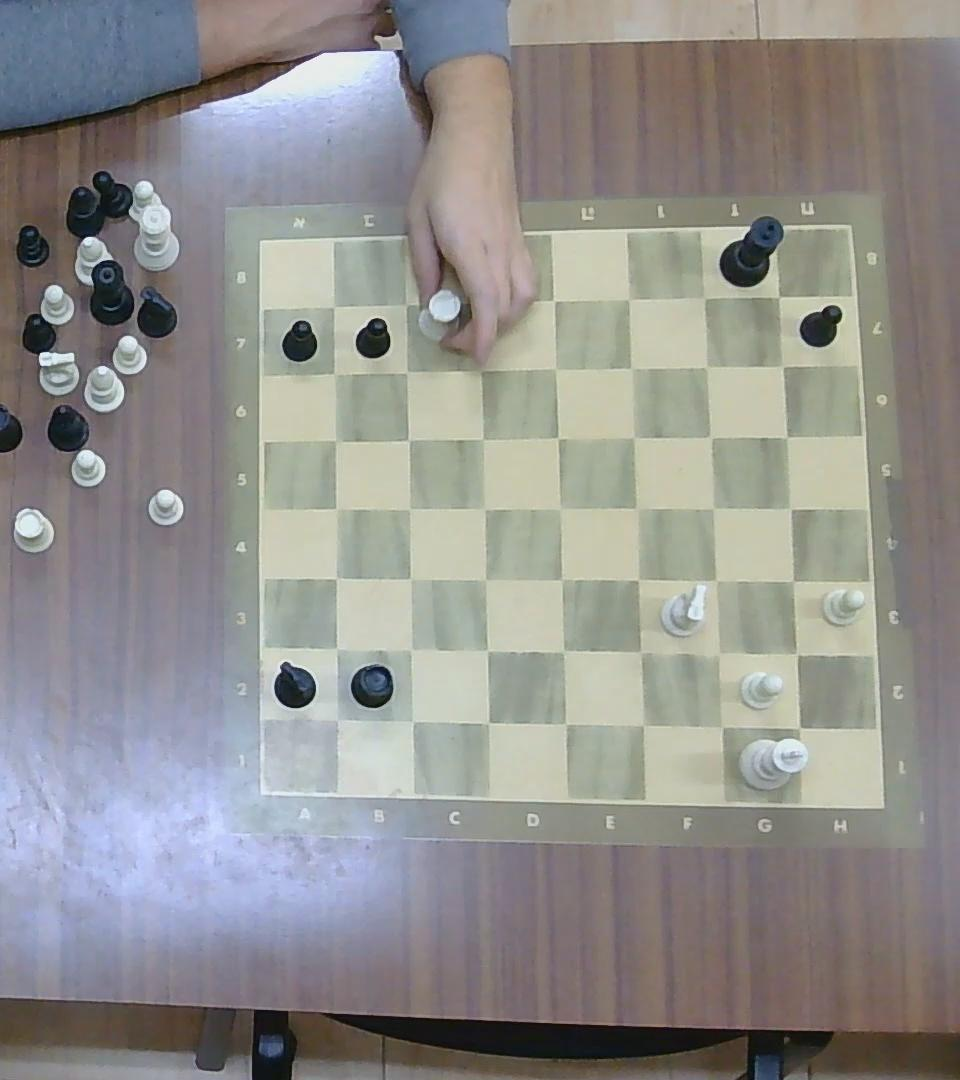xcorner: (703, 708, 737, 742), (701, 636, 735, 669), (781, 710, 815, 743), (624, 634, 656, 668), (626, 707, 658, 740), (548, 706, 580, 738), (780, 638, 812, 670), (396, 704, 428, 736), (471, 706, 502, 738), (547, 635, 578, 667), (699, 564, 730, 596), (320, 703, 352, 734), (622, 562, 652, 594), (547, 563, 577, 594), (471, 634, 501, 665), (698, 492, 728, 523), (470, 563, 500, 594), (776, 565, 807, 595), (622, 492, 652, 523), (320, 634, 351, 664), (615, 283, 645, 313), (539, 283, 568, 314), (463, 286, 492, 317), (545, 494, 574, 524), (776, 493, 806, 522), (470, 493, 499, 522), (395, 635, 424, 664), (691, 282, 720, 311), (617, 353, 646, 382), (545, 422, 573, 451), (321, 564, 350, 592), (769, 351, 797, 380), (467, 424, 495, 452), (395, 564, 423, 592), (323, 495, 351, 523), (318, 291, 346, 319), (396, 493, 423, 522), (772, 421, 801, 448), (321, 425, 349, 452), (621, 423, 649, 450), (693, 352, 721, 379), (542, 354, 570, 381), (698, 423, 725, 450), (467, 355, 493, 383), (766, 283, 792, 310), (320, 360, 348, 385), (392, 291, 419, 316), (393, 358, 419, 383), (395, 426, 421, 451)
